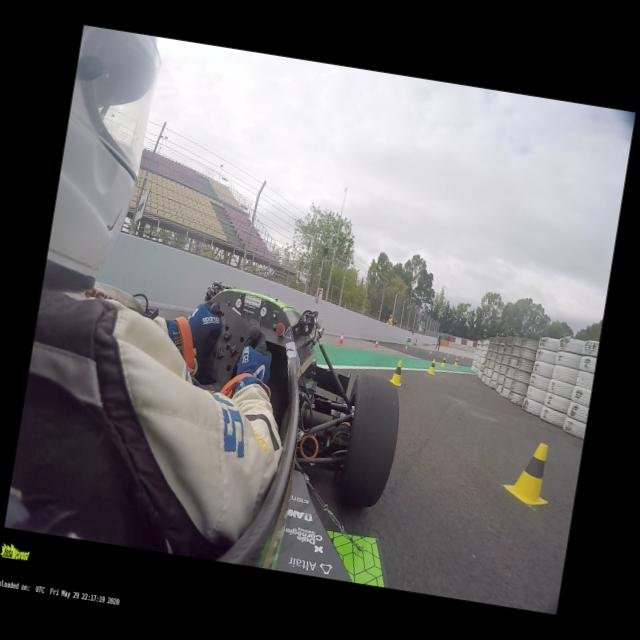orange_cone: (337, 332, 345, 346), (403, 344, 408, 352), (374, 340, 378, 348), (428, 349, 432, 356)
yellow_cone: (502, 440, 558, 508), (391, 360, 404, 382), (427, 358, 437, 376), (441, 357, 446, 368), (454, 357, 458, 367)
